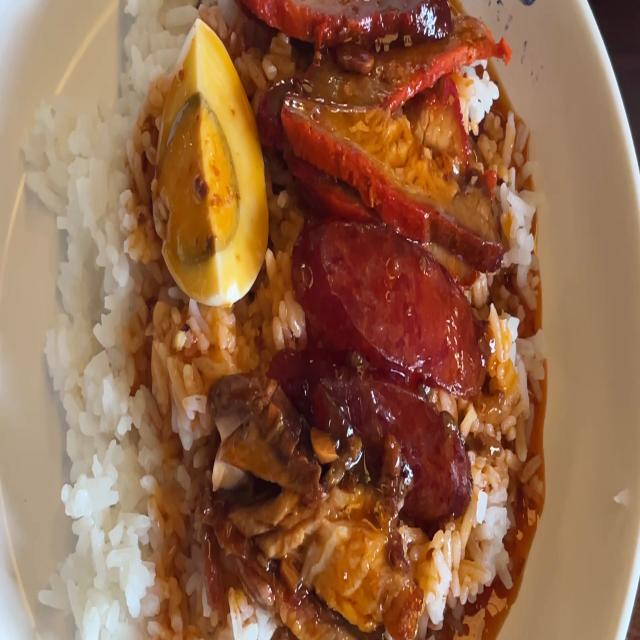red_pork_and_crispy_pork: (168, 49, 264, 299)
stir_fried_basil: (319, 232, 467, 473)
